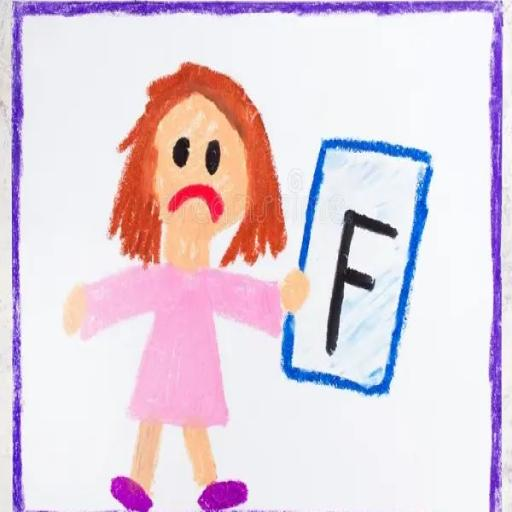person: (60, 58, 309, 510)
